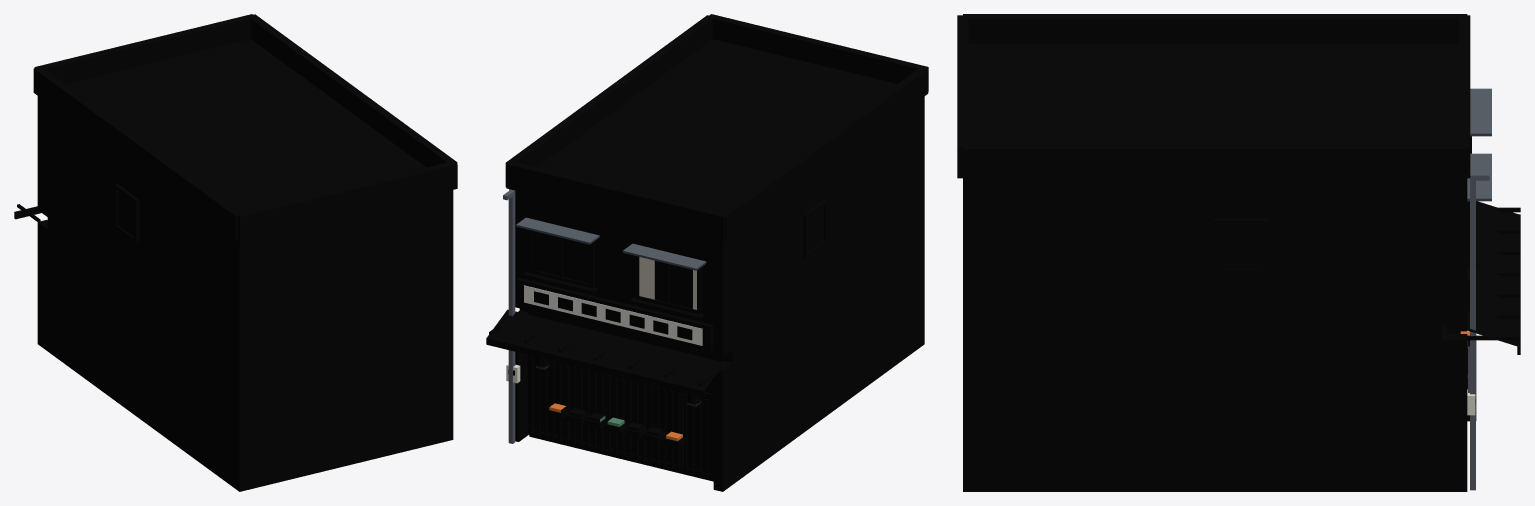
Rendered from Shop_D2.fbx.
The picture shows the model from 3 angles, left to right: view 1: azimuth 30°, elevation 25°; view 2: azimuth 150°, elevation 25°; view 3: azimuth 270°, elevation 25°; orthographic projection. The views are drawn at different scales.
Visible parts, largest first — view 1: RoofTop.009, BodyLow.007, BodyUp.007, Pilasters.006, WinFrame.020, Glass.020; view 2: RoofTop.009, BodyUp.007, BodyLow.007, Geya.005, Lattice.001, LitGlassDim.010, Pilasters.006, WinFrame.020, SignBand.007, ShopFrame.004, SignFace.006, Glass.020 (+8 smaller); view 3: RoofTop.009, BodyLow.007, BodyUp.007, Geya.005, Pilasters.006, Glass.020, Pipes.020, Hoods.017, WinFrame.020.
Part boxes in pixels (box(x1,y1,x2,y2)): RoofTop.009: box(33, 14, 457, 241); BodyLow.007: box(47, 217, 453, 491); BodyUp.007: box(37, 96, 453, 357); Pilasters.006: box(37, 220, 47, 350); WinFrame.020: box(114, 184, 139, 243); Glass.020: box(118, 191, 134, 236); RoofTop.009: box(505, 14, 928, 241); BodyUp.007: box(509, 96, 924, 357); BodyLow.007: box(519, 210, 924, 484); Geya.005: box(486, 309, 724, 397); Lattice.001: box(530, 356, 713, 478); LitGlassDim.010: box(532, 356, 713, 473); Pilasters.006: box(515, 310, 732, 491); WinFrame.020: box(523, 199, 827, 319); SignBand.007: box(516, 278, 713, 351); ShopFrame.004: box(527, 355, 713, 481); SignFace.006: box(524, 285, 702, 345); Glass.020: box(508, 206, 823, 375); RoofTop.009: box(957, 14, 1470, 179); BodyLow.007: box(963, 324, 1441, 491); BodyUp.007: box(963, 179, 1467, 324); Geya.005: box(1467, 201, 1520, 354); Pilasters.006: box(1442, 324, 1467, 491); Glass.020: box(1218, 224, 1475, 404); Pipes.020: box(1468, 173, 1489, 490); Hoods.017: box(1467, 88, 1491, 201); WinFrame.020: box(1213, 136, 1478, 274).
Size of the model in its own units: 5.7 by 6.8 by 10.05.
